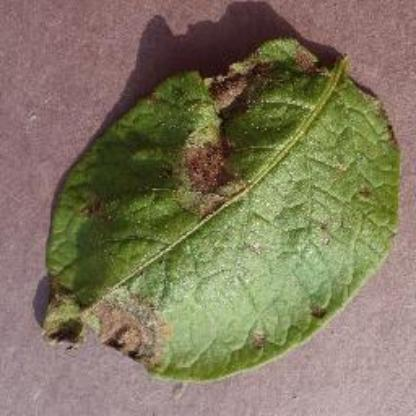Late-Blight: (40, 33, 406, 383)
